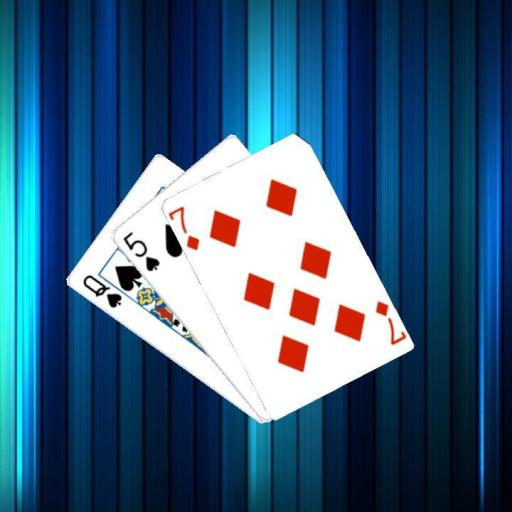5S: (120, 228, 161, 273)
7D: (167, 203, 202, 253), (372, 297, 406, 347)
QS: (79, 271, 123, 310)
